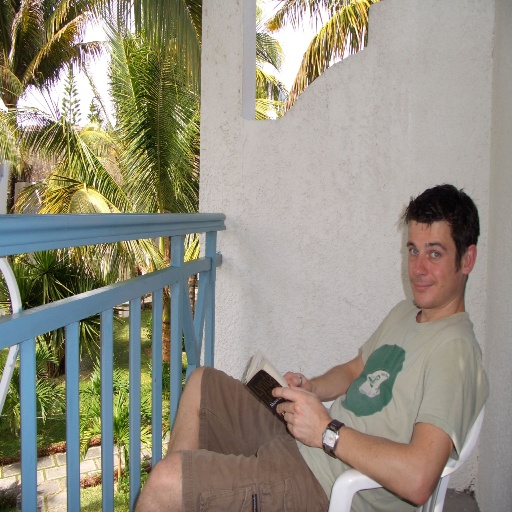hand: (276, 377, 334, 452), (282, 369, 313, 395)
